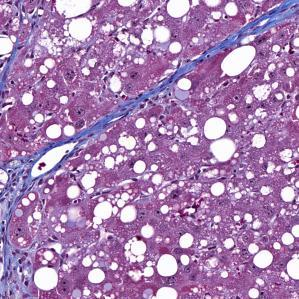fibrosis: (0, 161, 36, 241), (243, 0, 299, 48), (0, 247, 38, 296)
